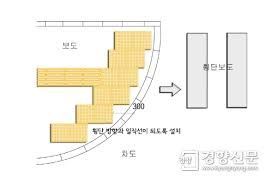guide_blocks: (38, 69, 136, 87), (50, 123, 87, 141), (75, 105, 113, 122), (109, 51, 144, 69), (115, 32, 151, 49), (93, 88, 128, 104)
